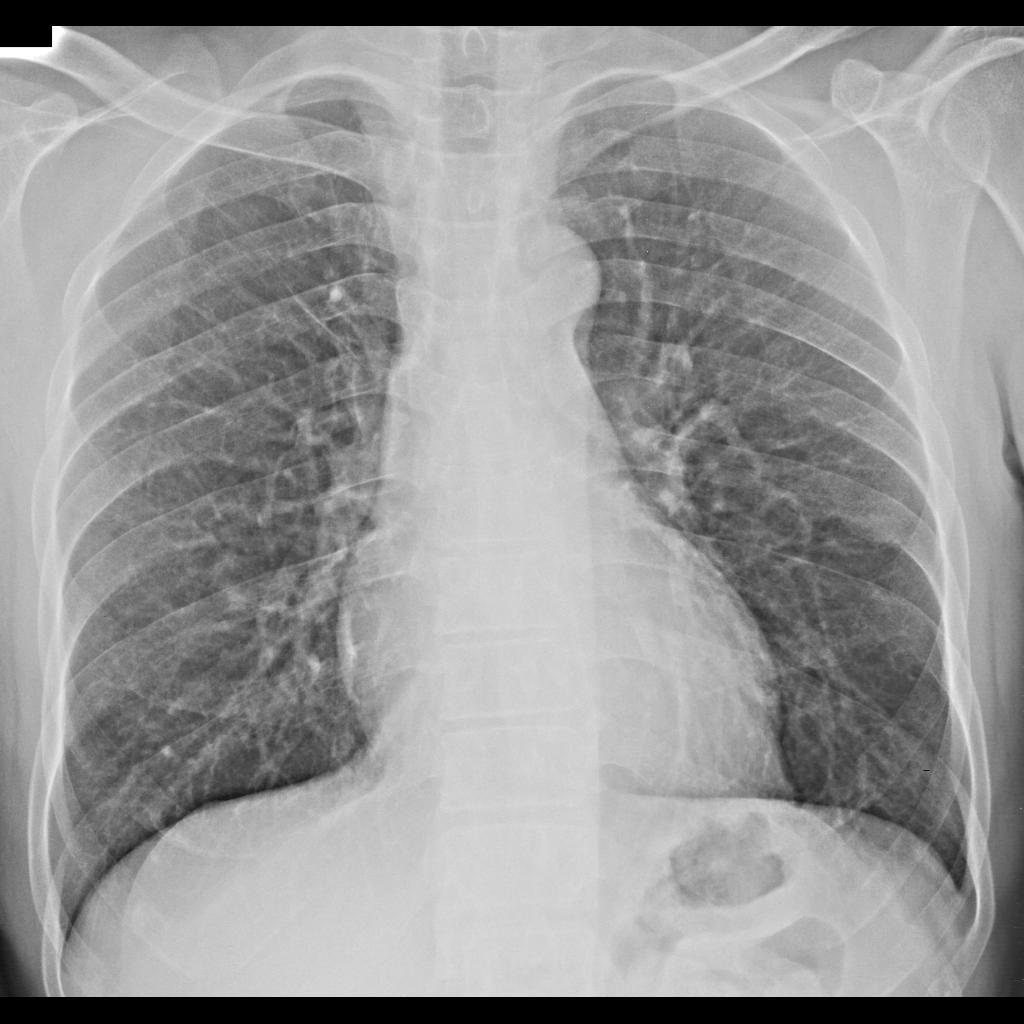Nodule: (218, 567, 254, 602)
